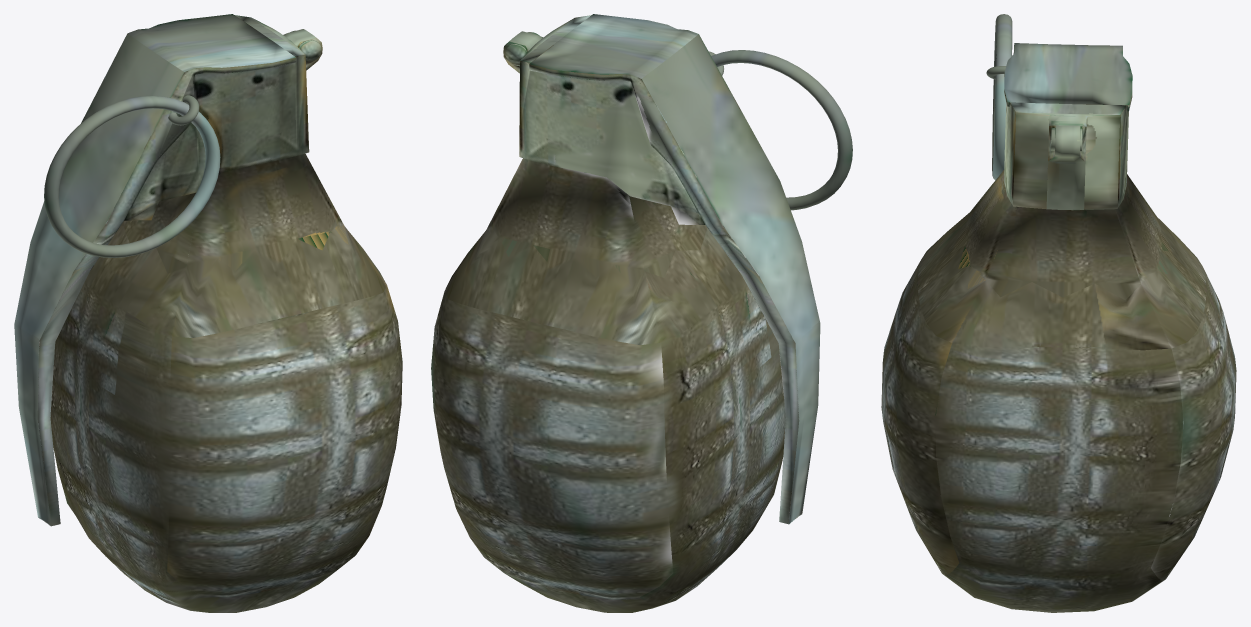
File: Grenade.fbx
3 views of the same model, side by side, from view 1: azimuth 30°, elevation 25°; view 2: azimuth 150°, elevation 25°; view 3: azimuth 270°, elevation 25° (orthographic). The views are drawn at different scales.
Parts seen in each view (by area): view 1: Cube; view 2: Cube; view 3: Cube.
Part boxes in pixels (bbox=[...]): Cube: bbox=[14, 14, 402, 612]; Cube: bbox=[431, 14, 852, 612]; Cube: bbox=[881, 14, 1236, 612].
Bounding box in the file's own units: 21.26 × 32.95 × 20.06.
